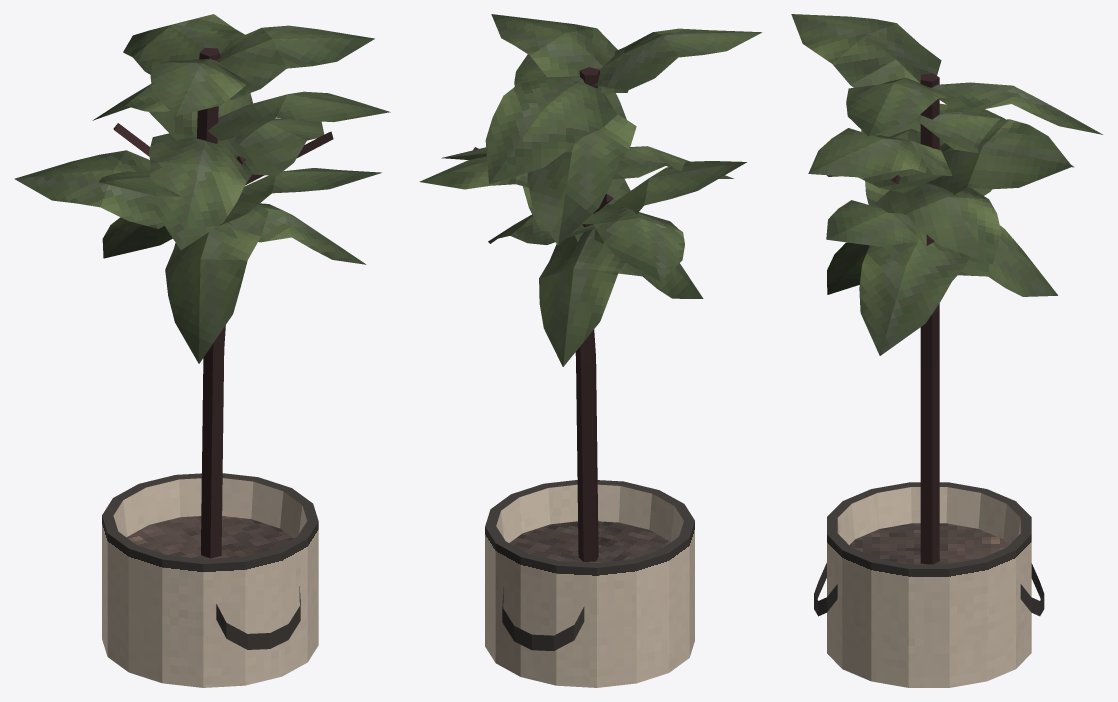
Rendered from ficus_lyrata.gltf.
The picture shows the model from 3 angles, left to right: view 1: azimuth 30°, elevation 25°; view 2: azimuth 150°, elevation 25°; view 3: azimuth 270°, elevation 25°; orthographic projection. The views are drawn at different scales.
Visible parts, largest first — view 1: tube; view 2: tube; view 3: tube.
Part boxes in pixels (box(x1,y1,x2,y2)): tube: box(14, 14, 390, 687); tube: box(419, 14, 762, 687); tube: box(791, 14, 1102, 687).
Size of the model in its own units: 1.14 by 2.4 by 1.15.
1 material, 1 textured.
